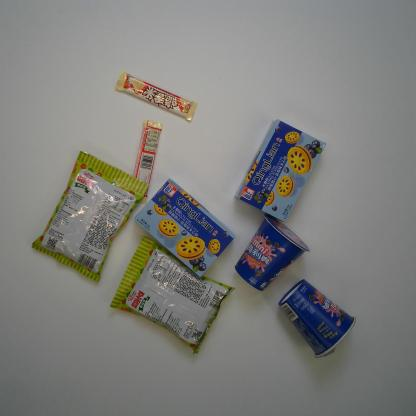Chocolate: (114, 70, 198, 122), (132, 120, 164, 204)
Dessert: (133, 177, 237, 279), (234, 119, 327, 223), (278, 278, 356, 358), (234, 212, 311, 292)
Puffed Food: (30, 149, 150, 283), (108, 235, 235, 356)
